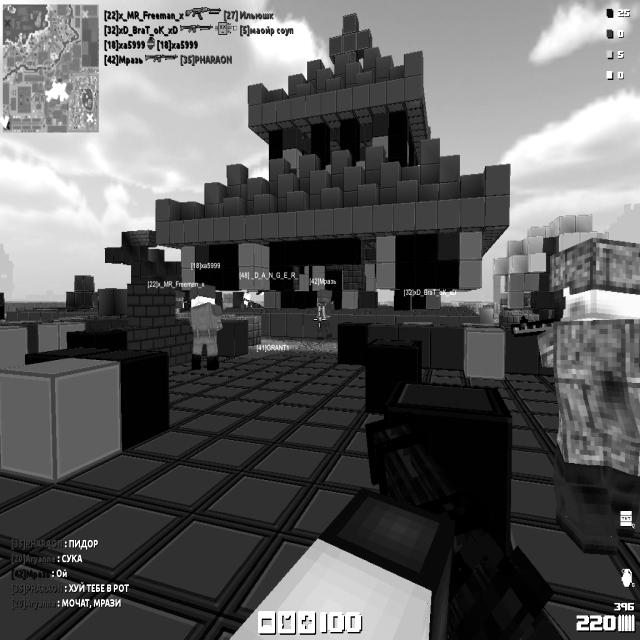Head: (550, 239, 640, 324), (189, 284, 217, 306), (316, 288, 333, 305), (173, 291, 184, 303), (242, 291, 254, 302)
Player: (512, 232, 639, 556), (188, 280, 225, 378), (312, 286, 336, 341), (170, 286, 185, 319), (242, 289, 257, 314)
